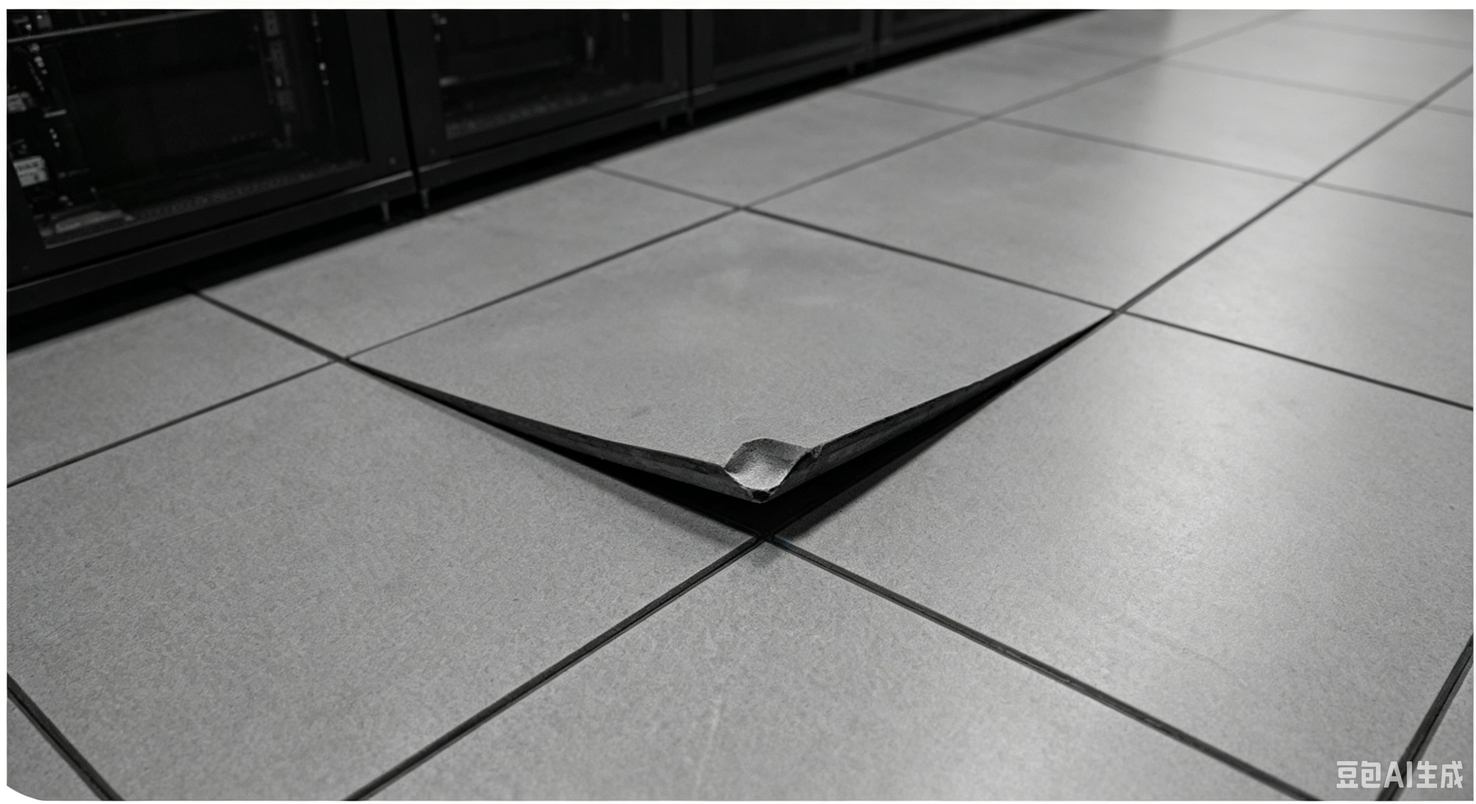floor_defect: (347, 348, 808, 556), (806, 315, 1111, 555)
